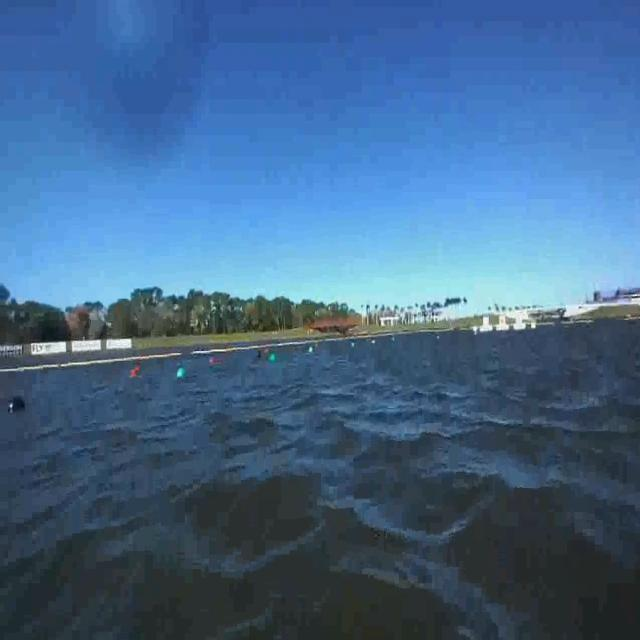black-buoy: (10, 395, 26, 411)
green-buoy: (180, 366, 190, 379)
red-buoy: (132, 366, 140, 379)
